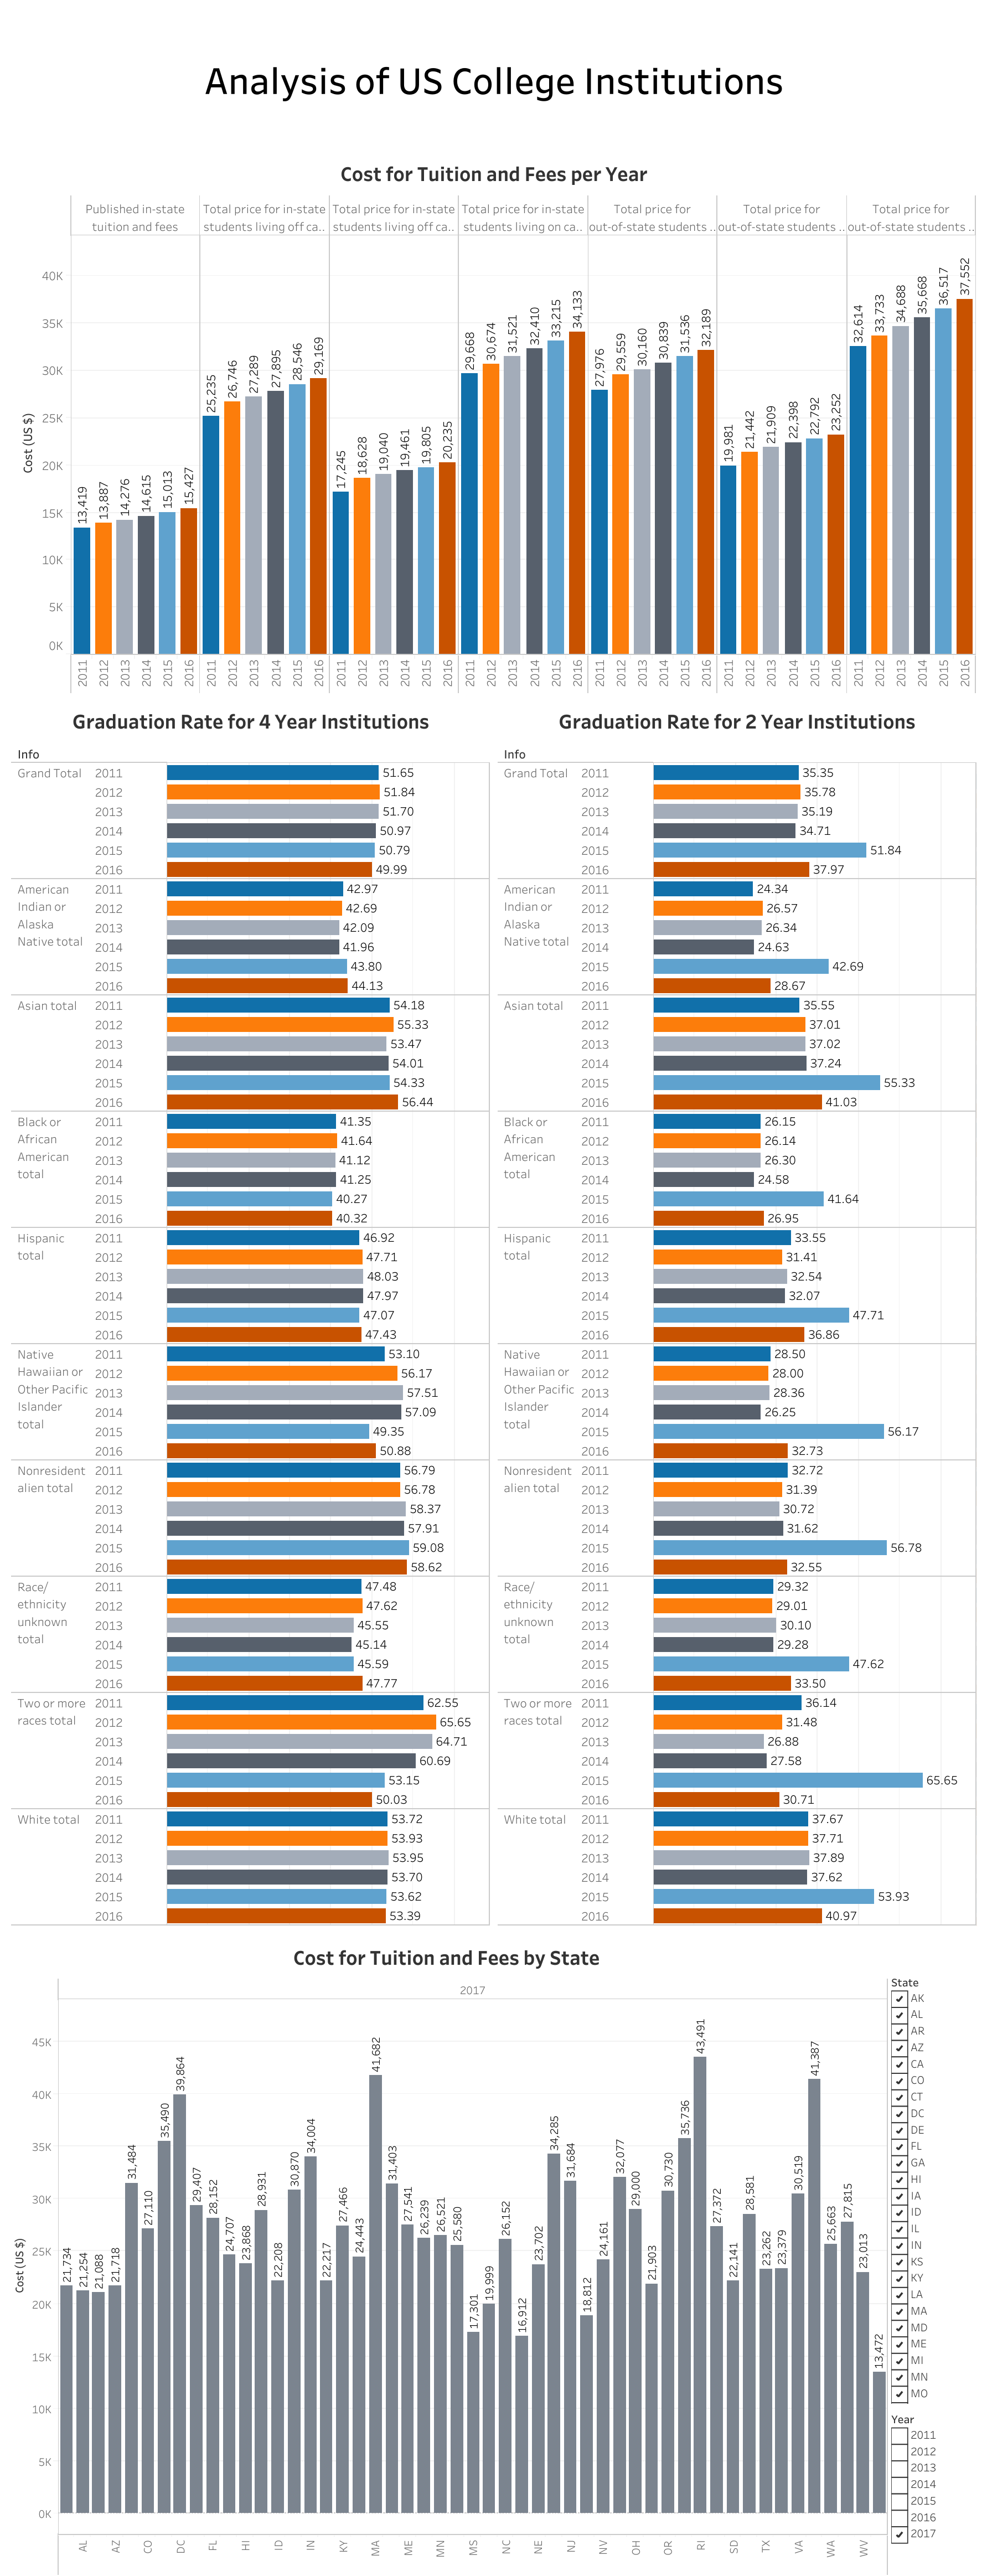

The page's visual inventory and layout, read from the dashboard file:
{"tool":"tableau","page":{"name":"Dashboard 1","canvas":[1020,2660],"ordinal":0},"visuals":[{"type":"text","box":[8,8,1004,145.9]},{"type":"worksheet","title":"Cost","mark":"Automatic","cols":["Info"],"box":[8,153.9,1004,566.2]},{"type":"worksheet","title":"4 Year","mark":"Automatic","rows":["Info"],"box":[8,720,501.9,1932]},{"type":"worksheet","title":"2 Year","mark":"Automatic","rows":["Info"],"box":[509.9,720,502.1,1932]},{"type":"worksheet","title":"State Cost","mark":"Automatic","cols":["State abbreviation (HD2016)"],"box":[5,2000,912,658]},{"type":"filter","title":"State Cost","param":"[federated.0rvl9xi10gcvua1ewhr8w0bdfv3k].[none:State abbreviation (HD2016):nk]","box":[920,2037,90,444]},{"type":"filter","title":"State Cost","param":"[federated.0rvl9xi10gcvua1ewhr8w0bdfv3k].[:Measure Names]","box":[920,2488,90,166]}]}

Visuals, with their boxes in screenshot pixels (x1, y1, x2, y2), scaled from the page's 1020x2660 canvas onto the 987x2576 screenshot:
text: pyautogui.locateOnScreen(8, 8, 979, 149)
"Cost" worksheet: pyautogui.locateOnScreen(8, 149, 979, 698)
"4 Year" worksheet: pyautogui.locateOnScreen(8, 697, 493, 2568)
"2 Year" worksheet: pyautogui.locateOnScreen(493, 697, 979, 2568)
"State Cost" worksheet: pyautogui.locateOnScreen(5, 1937, 887, 2574)
"State Cost" filter: pyautogui.locateOnScreen(890, 1973, 978, 2403)
"State Cost" filter: pyautogui.locateOnScreen(890, 2409, 978, 2570)
